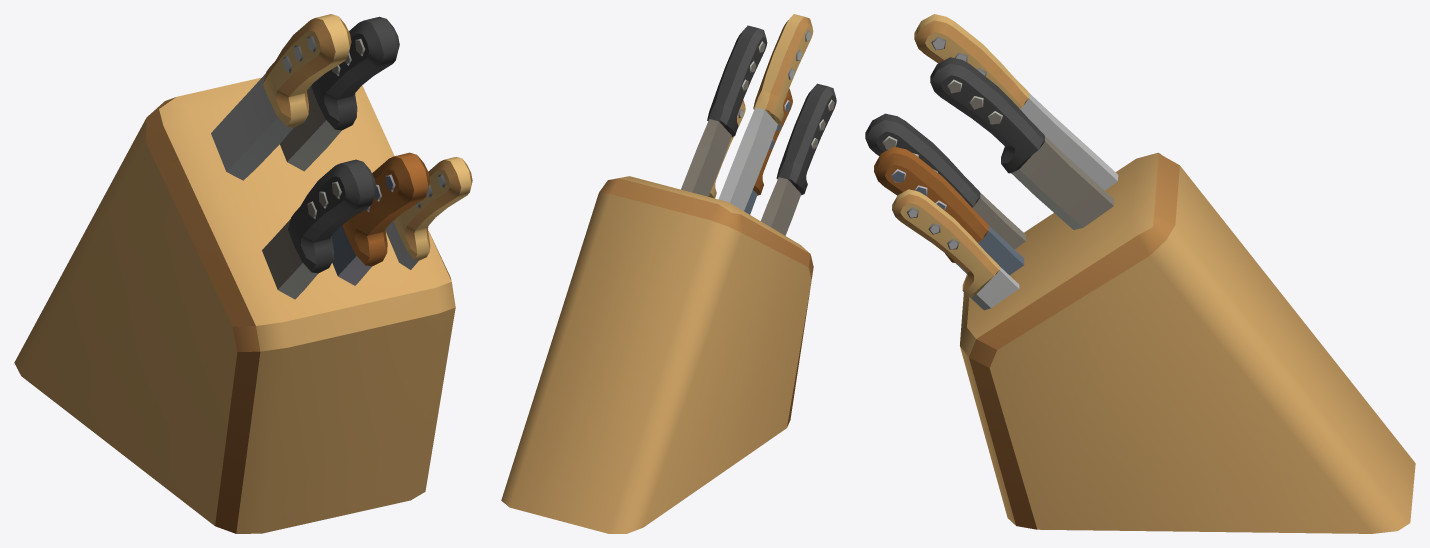
The model's file is KnifeHolder.glb.
The picture shows the model from 3 angles, left to right: view 1: azimuth 30°, elevation 25°; view 2: azimuth 150°, elevation 25°; view 3: azimuth 270°, elevation 25°; orthographic projection. The views are drawn at different scales.
Visible parts, largest first — view 1: KnifeHolder; view 2: KnifeHolder; view 3: KnifeHolder.
Boxes of the visible parts, x1,y1,x2,y2 form: KnifeHolder: (14,14,472,533); KnifeHolder: (501,14,836,533); KnifeHolder: (865,14,1415,533).
Size of the model in its own units: 0.1972 by 0.4671 by 0.5169.
2 materials, 2 textured.
